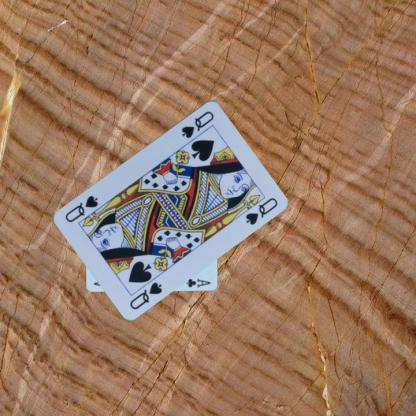Qs: (127, 278, 164, 311), (178, 108, 216, 139)
